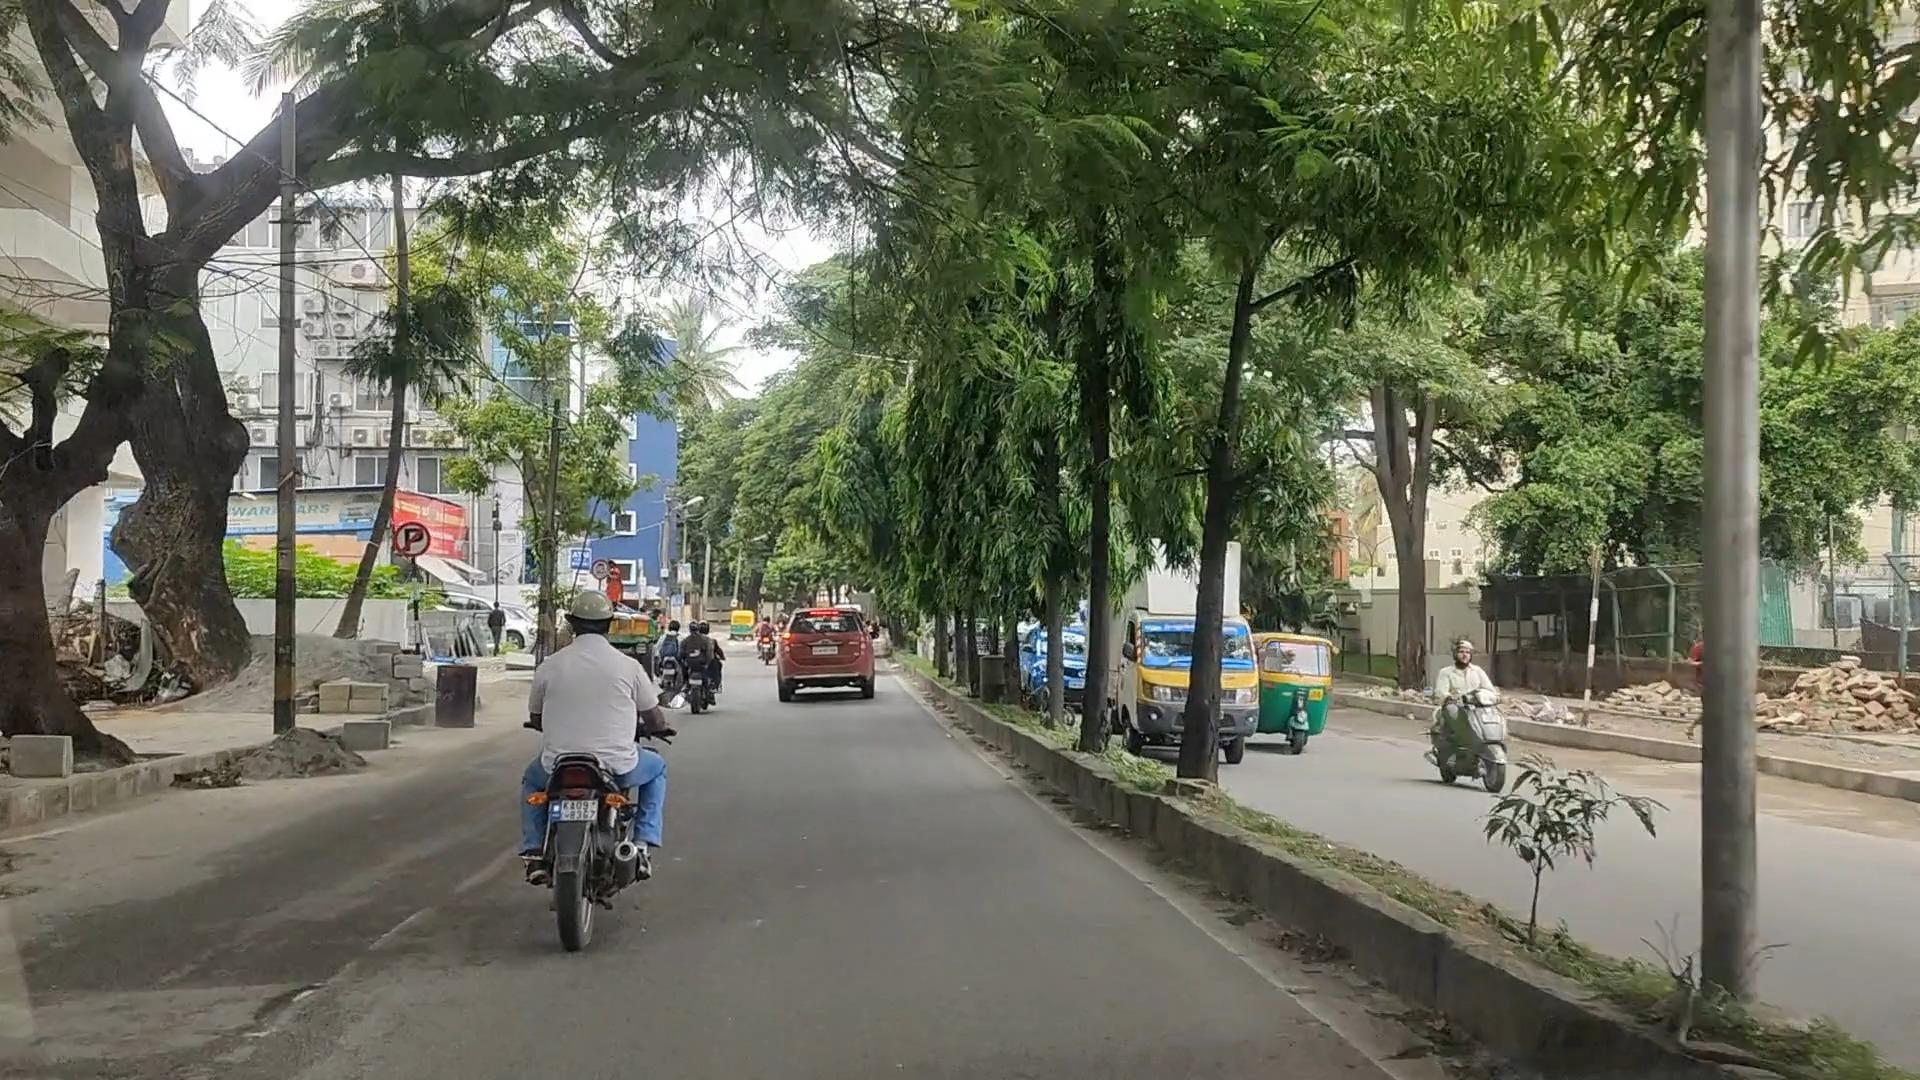LMV: (541, 603, 640, 927), (781, 611, 876, 692)
RoadDamages: (142, 965, 345, 1068)
